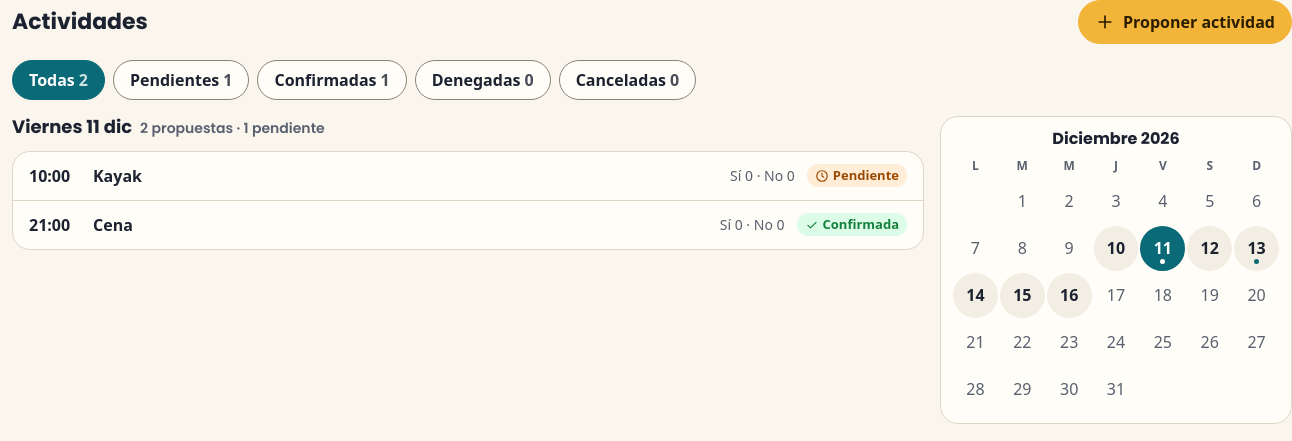
Test: ActividadesVista › al elegir otro día en el calendario muestra solo sus propuestas
Click the button "13": x=1257, y=248 [1234, 226, 1279, 271]
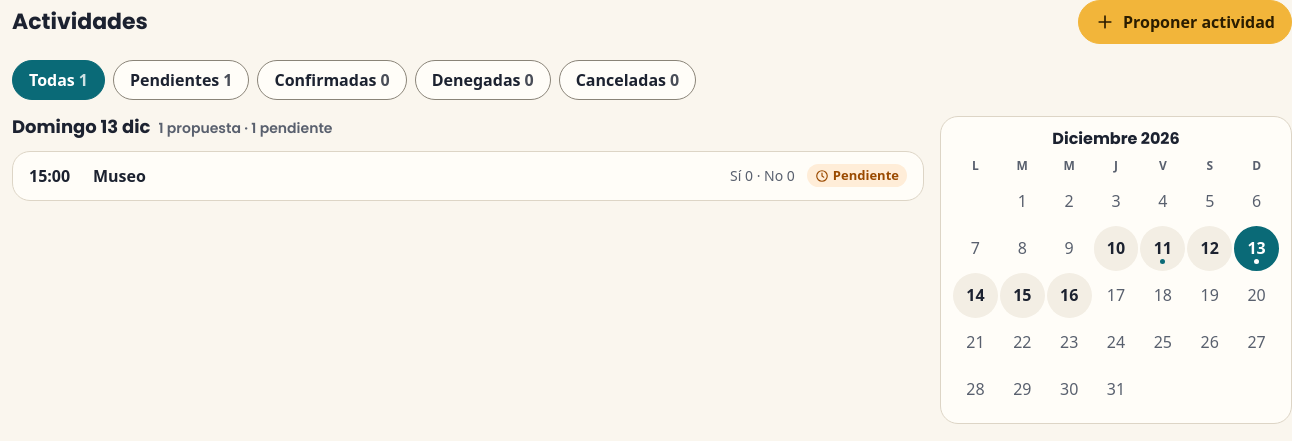
Check: the heading with class "dia" shows "Domingo 13 dic", box [12, 114, 150, 139]
